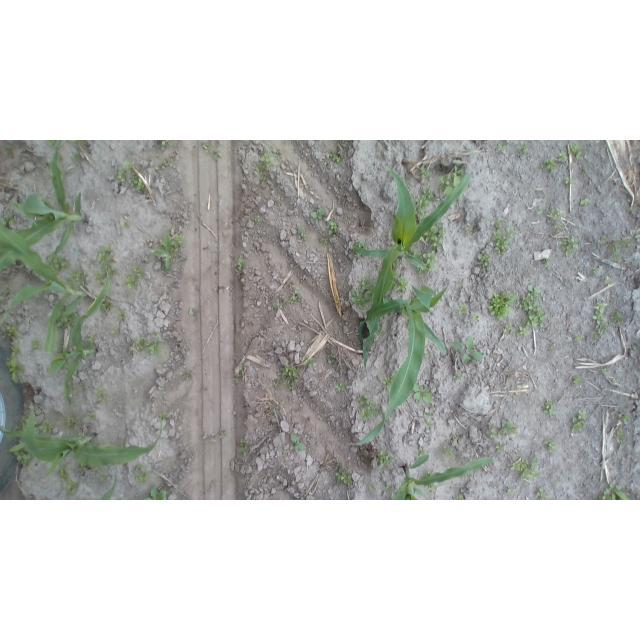Maize: (354, 170, 472, 371), (348, 281, 448, 444), (1, 222, 92, 355), (0, 405, 162, 478), (1, 140, 89, 270), (50, 269, 111, 408), (390, 456, 494, 501), (100, 474, 117, 500), (69, 141, 91, 148)
Weeds: (517, 285, 547, 335), (151, 234, 185, 270), (116, 158, 147, 190), (453, 335, 485, 366), (488, 291, 519, 322), (490, 219, 516, 255), (255, 149, 281, 182), (509, 457, 541, 483), (5, 346, 28, 382), (348, 278, 372, 311), (591, 298, 609, 341), (440, 166, 465, 196), (597, 479, 632, 500), (274, 365, 301, 392), (603, 236, 631, 262), (57, 462, 79, 494), (96, 246, 118, 274), (426, 226, 450, 251), (123, 264, 146, 288), (415, 186, 434, 215), (354, 395, 376, 420), (133, 338, 163, 356), (154, 152, 179, 173), (560, 235, 581, 257), (414, 384, 435, 405), (200, 141, 222, 161), (499, 421, 520, 440), (541, 399, 561, 418), (570, 413, 589, 432), (337, 468, 356, 486), (375, 450, 393, 467), (518, 141, 534, 160), (394, 276, 410, 295), (477, 250, 493, 269), (143, 488, 168, 500), (310, 206, 326, 224), (289, 435, 305, 453), (13, 450, 32, 465), (53, 256, 69, 273), (534, 486, 553, 500), (96, 387, 109, 407), (540, 156, 556, 172), (5, 325, 22, 340), (570, 143, 585, 160), (423, 252, 438, 268), (419, 165, 433, 182), (135, 463, 148, 481), (543, 438, 558, 453), (323, 346, 335, 364), (153, 140, 174, 150), (550, 210, 566, 223), (616, 411, 632, 424), (558, 151, 571, 166), (73, 271, 88, 284), (616, 425, 628, 441), (327, 221, 340, 235), (238, 440, 250, 455), (612, 311, 624, 326), (382, 373, 393, 389), (288, 293, 300, 307), (297, 225, 309, 239), (441, 448, 455, 460), (39, 423, 54, 434), (64, 417, 76, 430), (331, 150, 342, 163), (119, 308, 130, 320), (251, 216, 262, 228), (495, 443, 507, 454), (99, 471, 112, 481), (237, 259, 244, 277), (496, 143, 507, 154), (422, 418, 434, 428), (550, 338, 560, 350), (502, 322, 514, 332), (485, 427, 495, 439), (382, 483, 395, 492), (31, 338, 40, 350), (302, 358, 314, 367), (46, 141, 61, 148), (423, 409, 436, 417), (554, 221, 564, 231), (218, 428, 228, 438), (336, 382, 346, 392), (418, 447, 426, 459), (458, 279, 466, 291), (470, 314, 480, 323), (355, 239, 365, 248), (578, 165, 586, 176), (466, 224, 475, 233), (121, 221, 131, 229), (88, 412, 98, 420), (460, 305, 468, 315), (111, 328, 120, 336), (565, 177, 573, 186), (576, 334, 585, 342), (318, 237, 330, 243), (572, 375, 581, 383), (604, 276, 613, 284), (239, 365, 249, 372), (455, 494, 466, 500), (425, 485, 436, 491), (183, 371, 191, 379), (235, 374, 242, 383), (538, 205, 544, 215), (593, 266, 599, 276), (508, 489, 518, 495), (577, 265, 585, 272), (581, 199, 590, 205), (161, 413, 168, 420), (454, 373, 462, 379), (452, 435, 461, 440), (546, 259, 551, 267), (152, 334, 159, 339), (370, 486, 375, 493), (507, 140, 515, 144), (602, 367, 607, 373), (612, 378, 616, 384)
